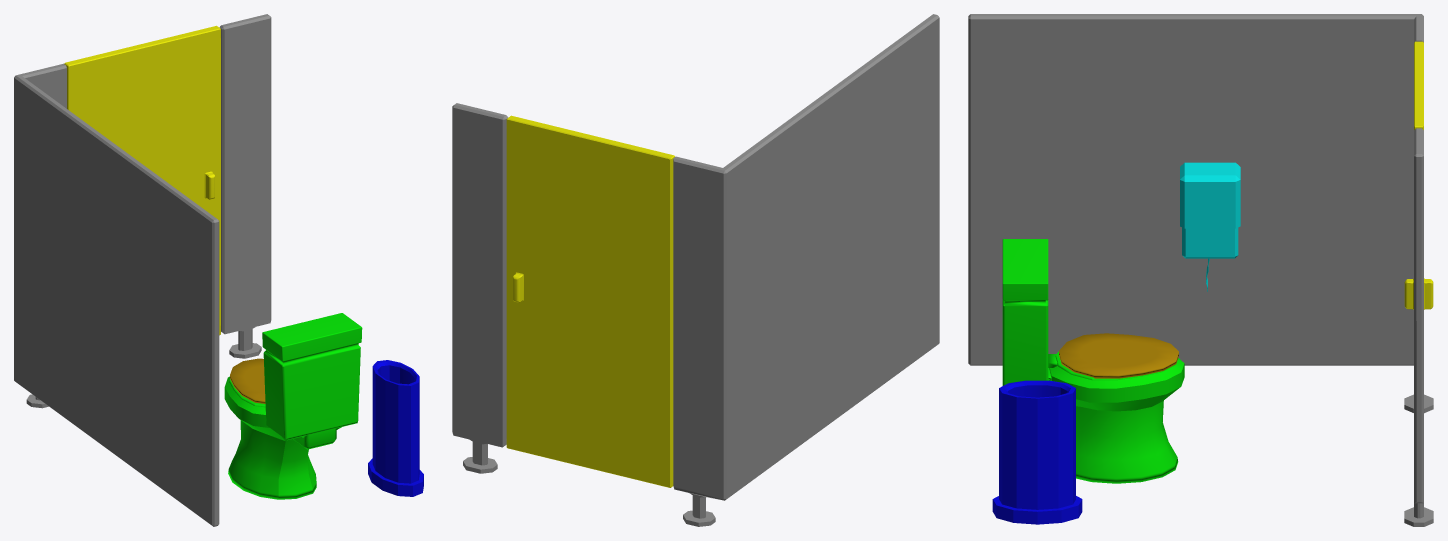
File: ToiletCubicle.fbx
The picture shows the model from 3 angles, left to right: view 1: azimuth 30°, elevation 25°; view 2: azimuth 150°, elevation 25°; view 3: azimuth 270°, elevation 25°; orthographic projection. The views are drawn at different scales.
Parts seen in each view (by area): view 1: Toilet_Cubicle, Toilet_CubicleDoor, Toilet, Toilet_Bin, Toilet_Lid; view 2: Toilet_Cubicle, Toilet_CubicleDoor; view 3: Toilet_Cubicle, Toilet, Toilet_Bin, Toilet_PaperDispenser, Toilet_Lid, Toilet_CubicleDoor.
Part boxes in pixels (bbox=[...]): Toilet_Cubicle: bbox=[14, 14, 271, 526]; Toilet_CubicleDoor: bbox=[64, 25, 220, 335]; Toilet: bbox=[224, 313, 362, 499]; Toilet_Bin: bbox=[368, 360, 423, 496]; Toilet_Lid: bbox=[230, 358, 265, 403]; Toilet_Cubicle: bbox=[452, 14, 939, 526]; Toilet_CubicleDoor: bbox=[506, 115, 674, 487]; Toilet_Cubicle: bbox=[968, 14, 1433, 526]; Toilet: bbox=[1002, 239, 1184, 483]; Toilet_Bin: bbox=[992, 380, 1082, 524]; Toilet_PaperDispenser: bbox=[1180, 162, 1240, 291]; Toilet_Lid: bbox=[1059, 333, 1178, 378]; Toilet_CubicleDoor: bbox=[1404, 41, 1433, 309].
Bounding box in the file's own units: 179 × 224 × 248.
